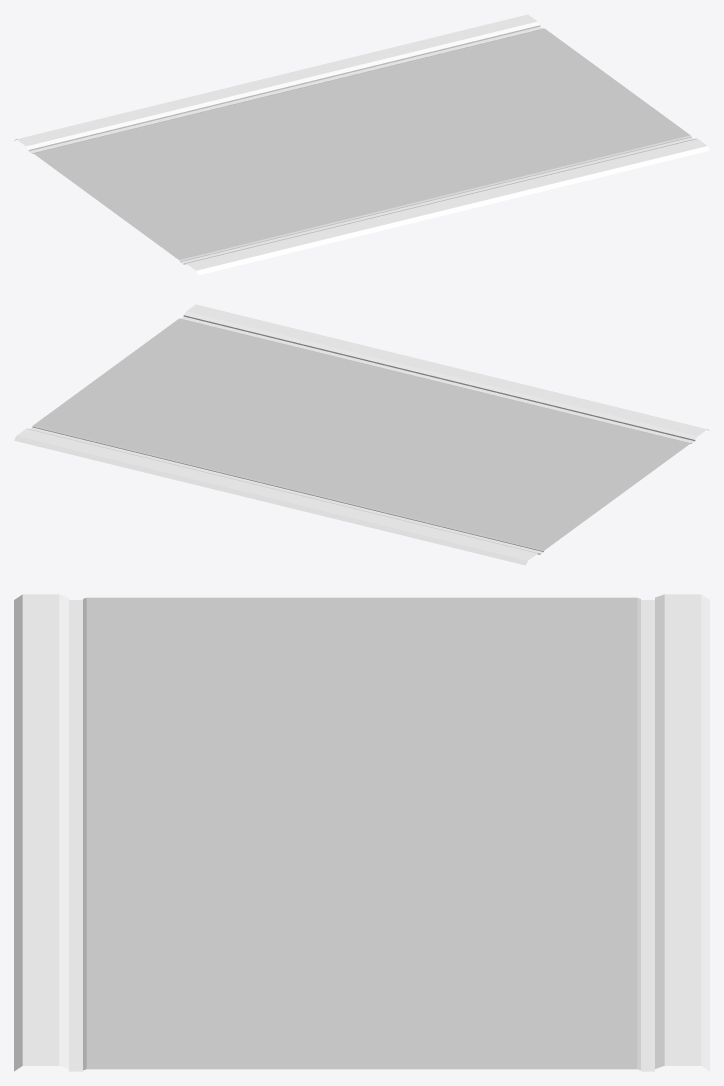
Rendered from straight_road_thin.fbx.
3 views of the same model, one above another, from view 1: azimuth 30°, elevation 25°; view 2: azimuth 150°, elevation 25°; view 3: azimuth 270°, elevation 25° (orthographic). The views are drawn at different scales.
Visible parts, largest first — view 1: straight_road_thin; view 2: straight_road_thin; view 3: straight_road_thin.
Part boxes in pixels (bbox=[...]): straight_road_thin: bbox=[14, 14, 709, 275]; straight_road_thin: bbox=[14, 304, 709, 565]; straight_road_thin: bbox=[14, 594, 709, 1071].
Size of the model in its own units: 5.98 by 0.0341 by 3.73.
